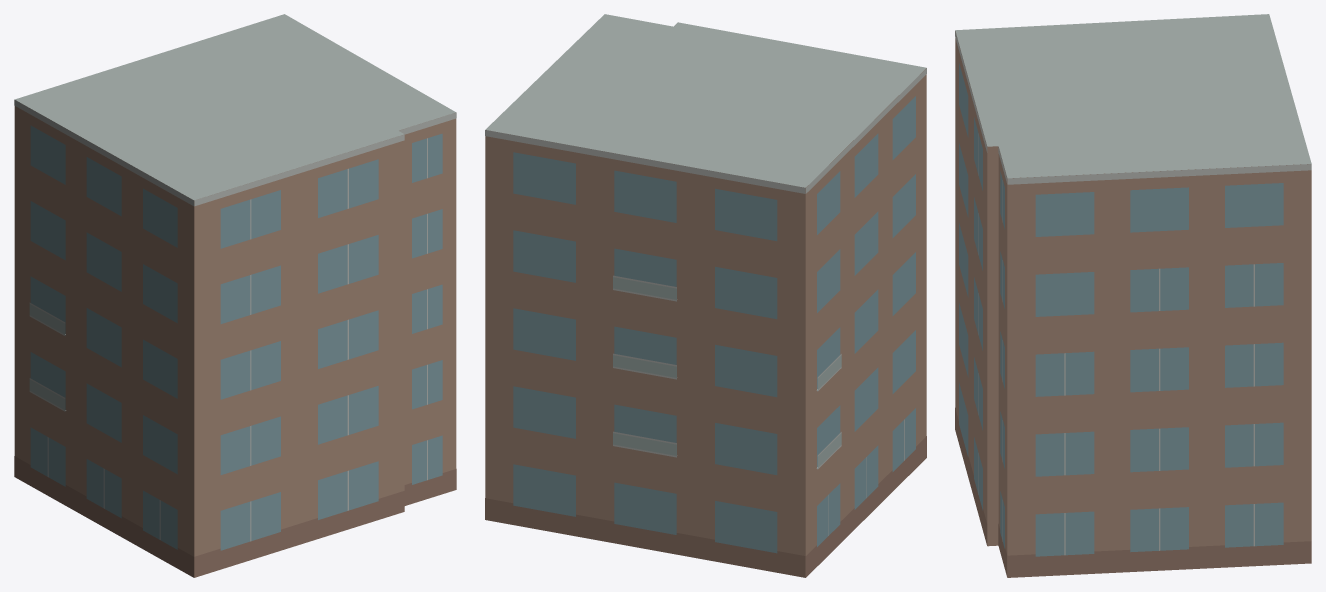
File: survey-upis-33044051.glb
3 views of the same model, side by side, from view 1: azimuth 30°, elevation 25°; view 2: azimuth 150°, elevation 25°; view 3: azimuth 270°, elevation 25° (orthographic). The views are drawn at different scales.
Parts seen in each view (by area): view 1: survey-upis-33044051.tmp; view 2: survey-upis-33044051.tmp; view 3: survey-upis-33044051.tmp.
Part boxes in pixels (x1,y1,x2,y2): survey-upis-33044051.tmp: [14, 14, 456, 577]; survey-upis-33044051.tmp: [485, 14, 926, 577]; survey-upis-33044051.tmp: [955, 14, 1311, 577].
Size of the model in its own units: 13.42 by 15.2 by 12.3.
